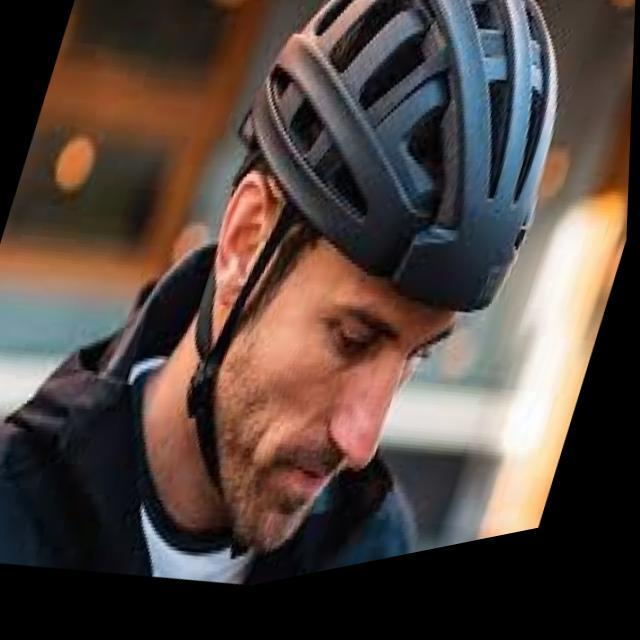Helmet: (175, 0, 561, 561)
